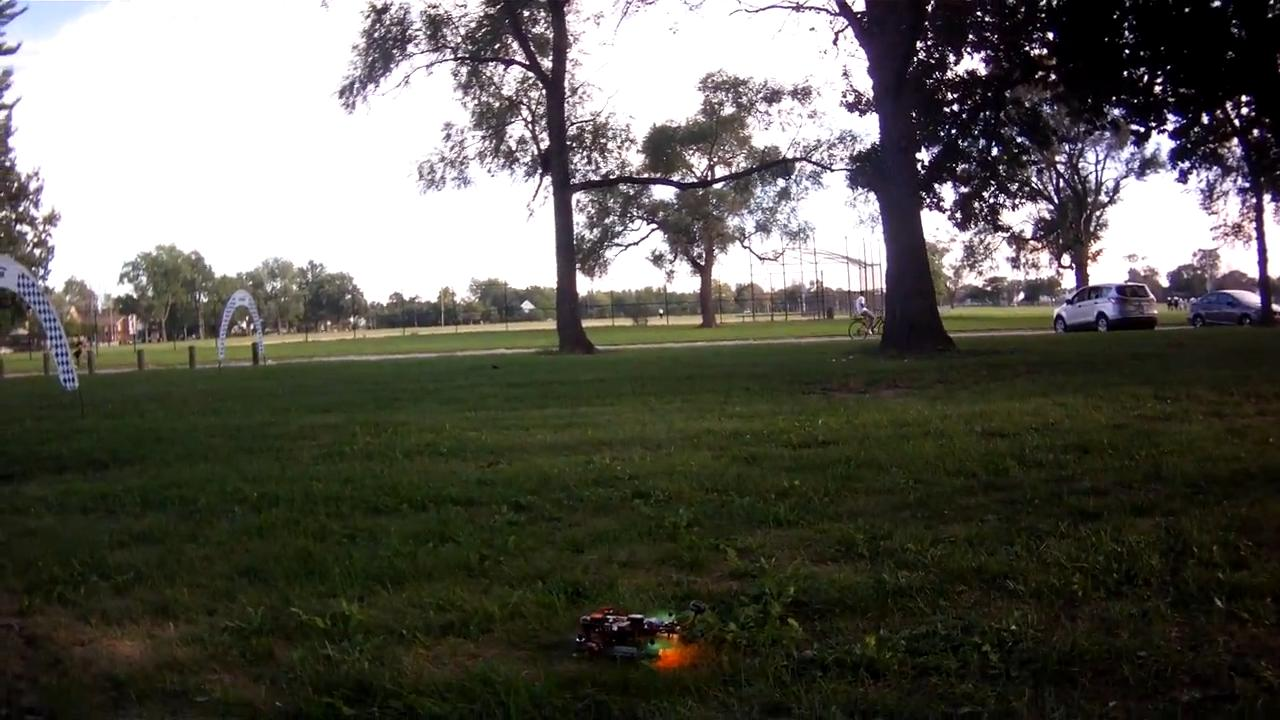gate: (217, 289, 270, 360)
